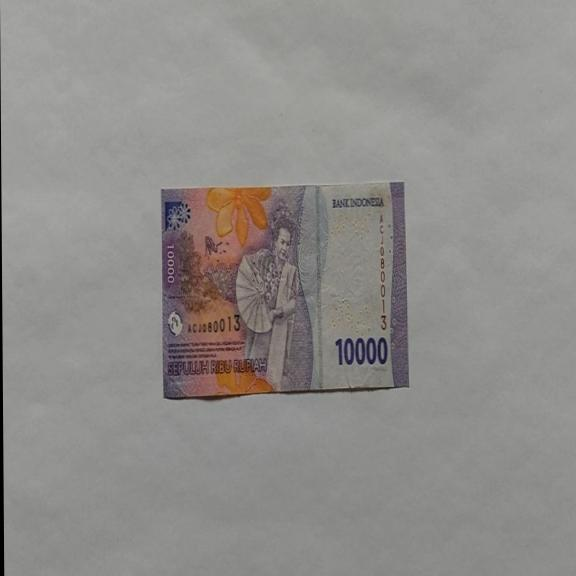Kertas: (160, 181, 409, 399)
